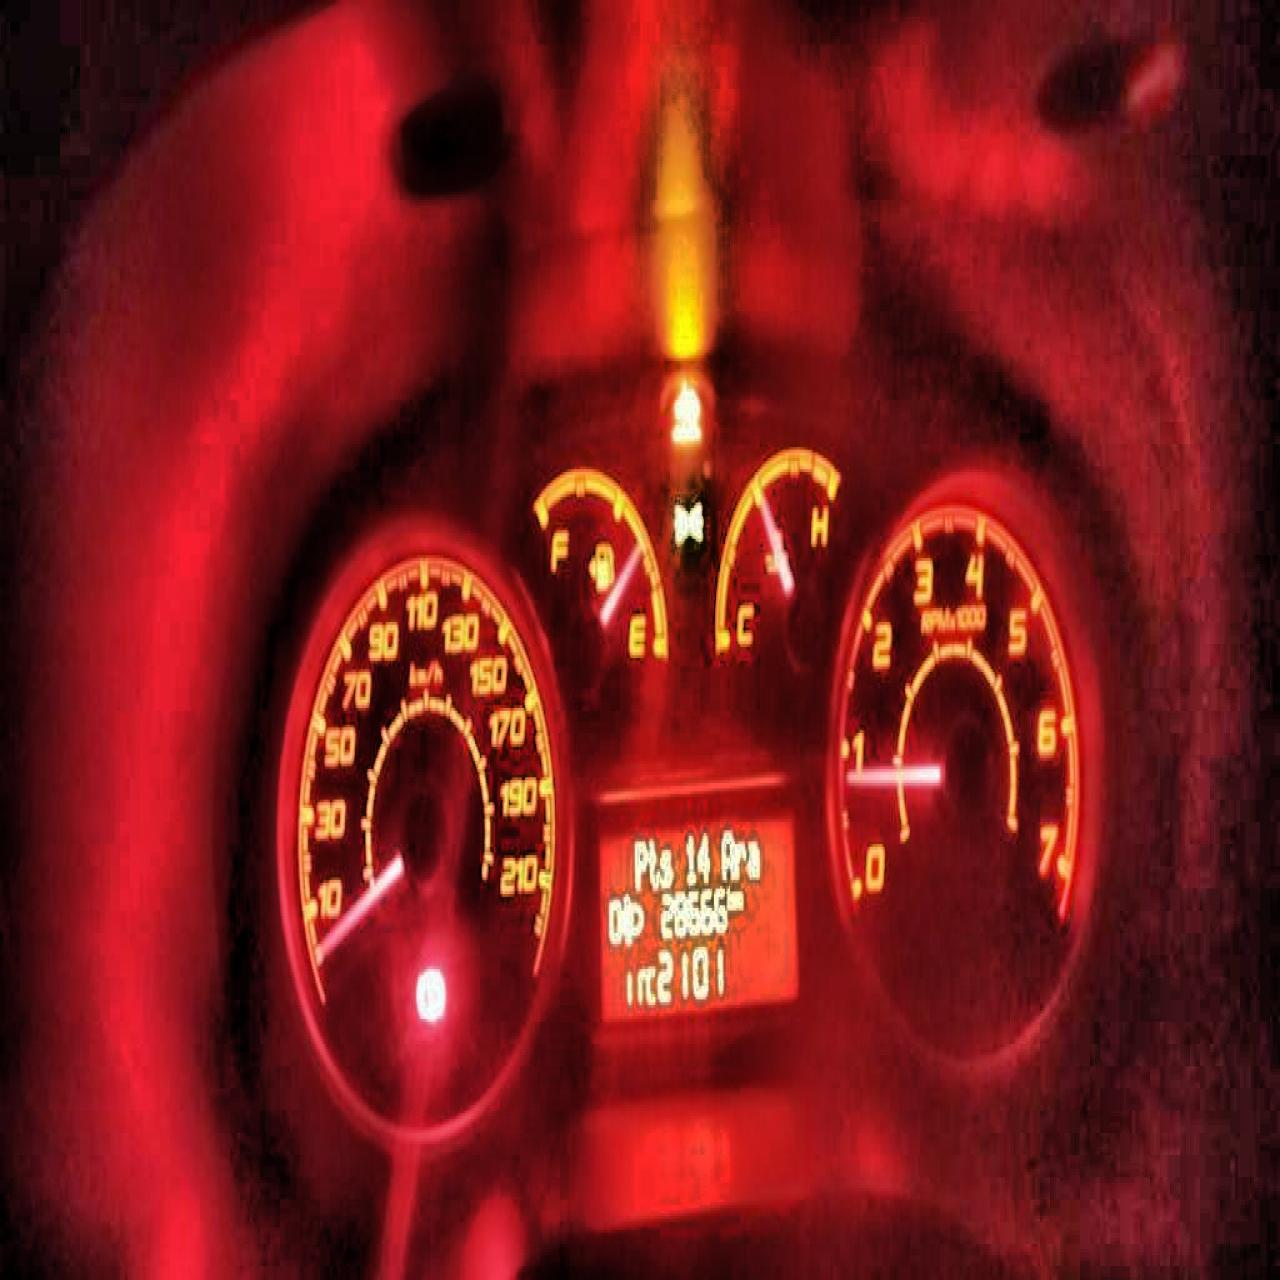0: (692, 941, 709, 996), (606, 891, 620, 944)
1: (685, 819, 696, 886), (679, 947, 689, 1008), (715, 944, 726, 994), (624, 964, 634, 1008), (635, 964, 642, 1008)
2: (658, 944, 673, 1005), (659, 888, 673, 941)
4: (697, 825, 713, 884)
6: (713, 883, 727, 933), (699, 886, 713, 933), (686, 888, 699, 935)
8: (673, 888, 687, 939)
X: (632, 832, 647, 888), (720, 822, 734, 880), (646, 833, 659, 883), (659, 842, 673, 886), (745, 836, 760, 877), (645, 961, 656, 1008), (734, 838, 747, 878)
odometer: (595, 809, 799, 1010)
